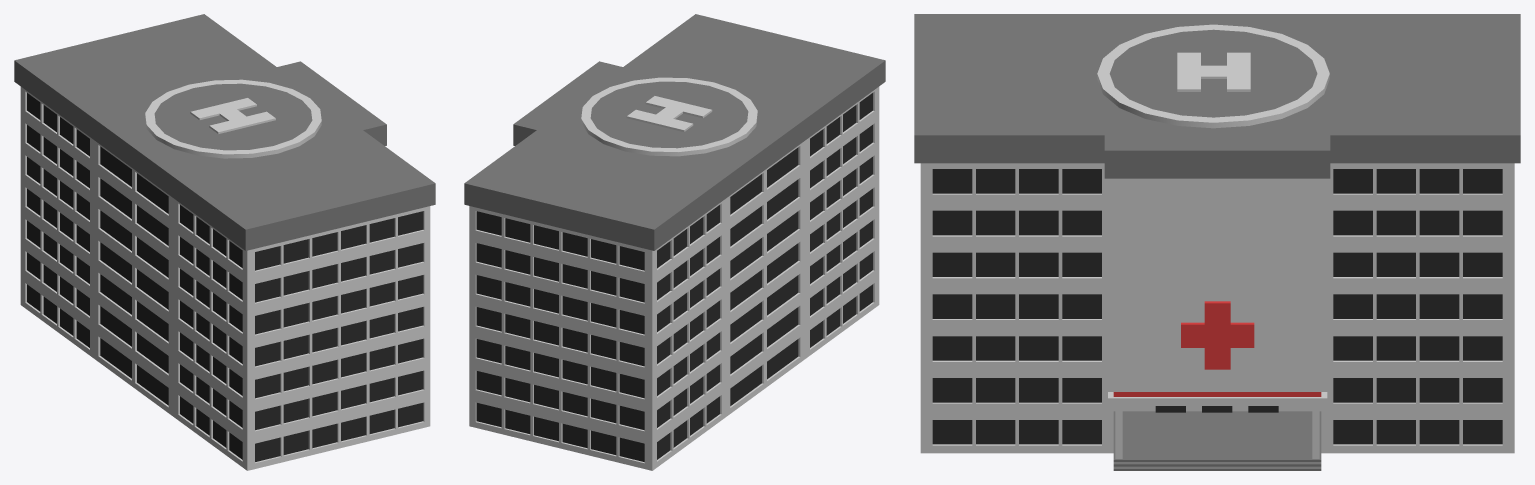
The model's file is Hospital02.fbx.
3 renders of one model, left to right at view 1: azimuth 30°, elevation 25°; view 2: azimuth 150°, elevation 25°; view 3: azimuth 270°, elevation 25°, orthographic. The views are drawn at different scales.
Parts seen in each view (by area): view 1: Hospital; view 2: Hospital; view 3: Hospital.
Part boxes in pixels (box(x1,y1,x2,y2)): Hospital: box(14, 14, 435, 470); Hospital: box(464, 14, 885, 470); Hospital: box(914, 14, 1520, 470).
Bounding box in the file's own units: 225 × 251 × 420.
